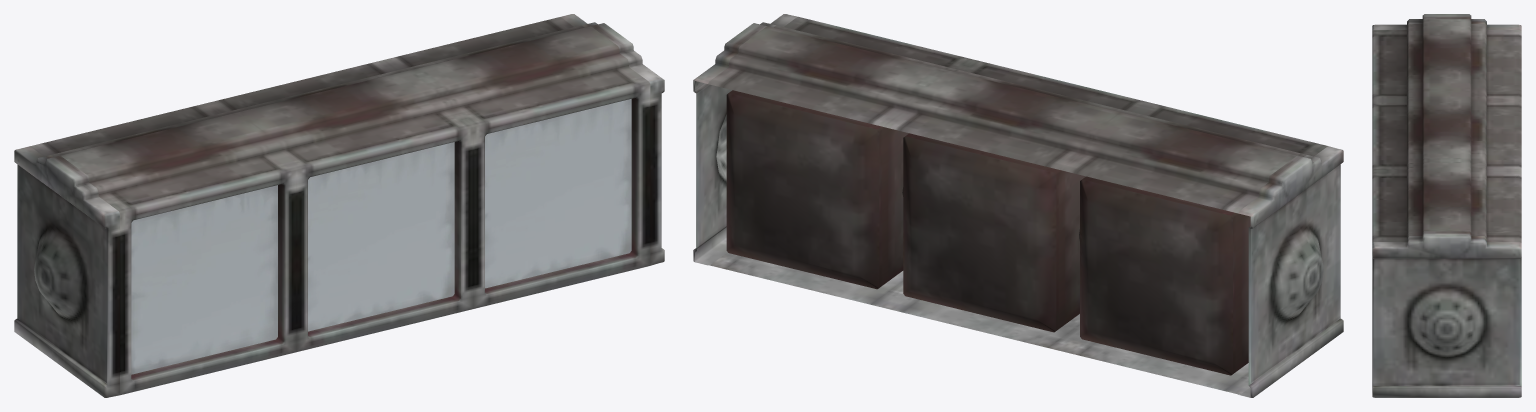
The model's file is gems.glb.
3 views of the same model, side by side, from view 1: azimuth 30°, elevation 25°; view 2: azimuth 150°, elevation 25°; view 3: azimuth 270°, elevation 25° (orthographic). The views are drawn at different scales.
Visible parts, largest first — view 1: Module-Gems, Glass; view 2: Module-Gems; view 3: Module-Gems.
Part boxes in pixels (x1,y1,x2,y2): Module-Gems: [14, 14, 664, 397]; Glass: [131, 99, 631, 374]; Module-Gems: [693, 14, 1343, 397]; Module-Gems: [1372, 14, 1521, 397].
Bounding box in the file's own units: 2.05 × 0.6547 × 0.5496.
Materials: 3 (3 with a texture image).
